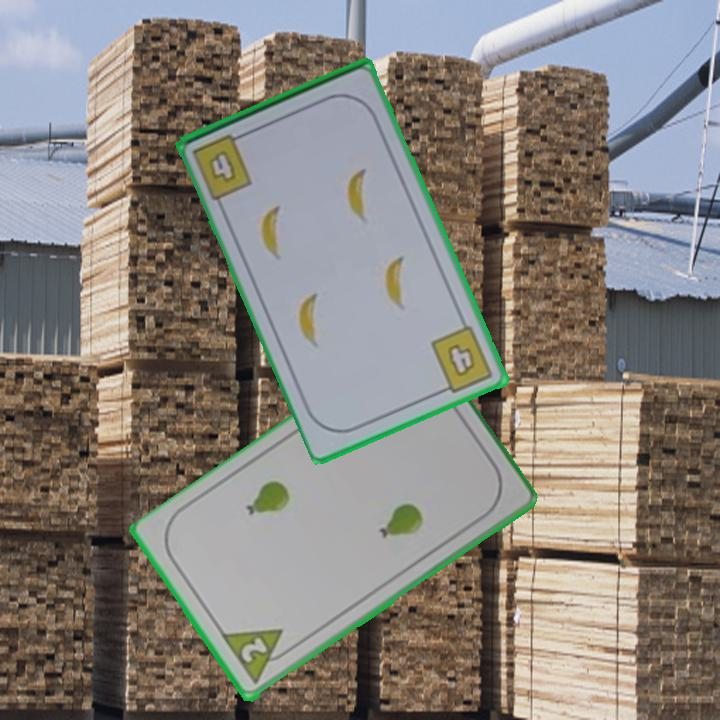2p: (218, 625, 297, 688)
4b: (427, 322, 497, 398), (189, 129, 256, 203)
